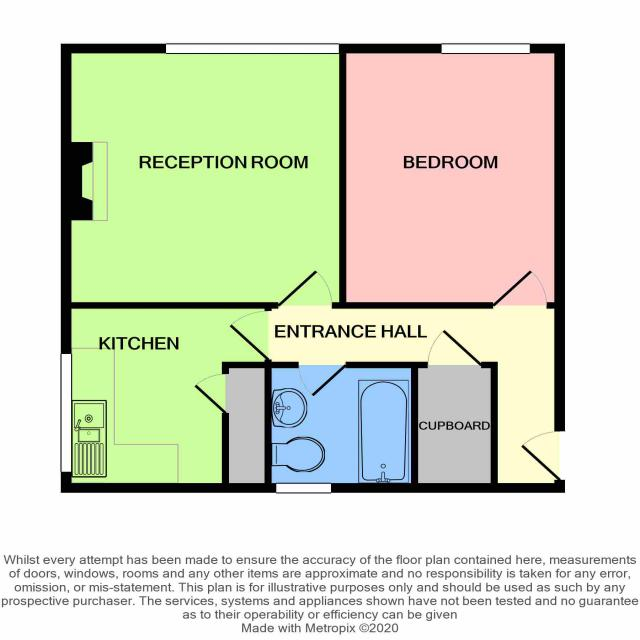DOOR: (518, 429, 565, 482), (226, 308, 272, 362), (491, 267, 548, 309), (276, 268, 333, 309), (296, 361, 348, 399), (190, 372, 230, 413)
ROOM: (60, 43, 347, 309), (339, 43, 565, 309), (60, 302, 273, 494)
WINDOW: (165, 43, 340, 55), (60, 352, 73, 474), (440, 42, 532, 55), (275, 482, 332, 495)
